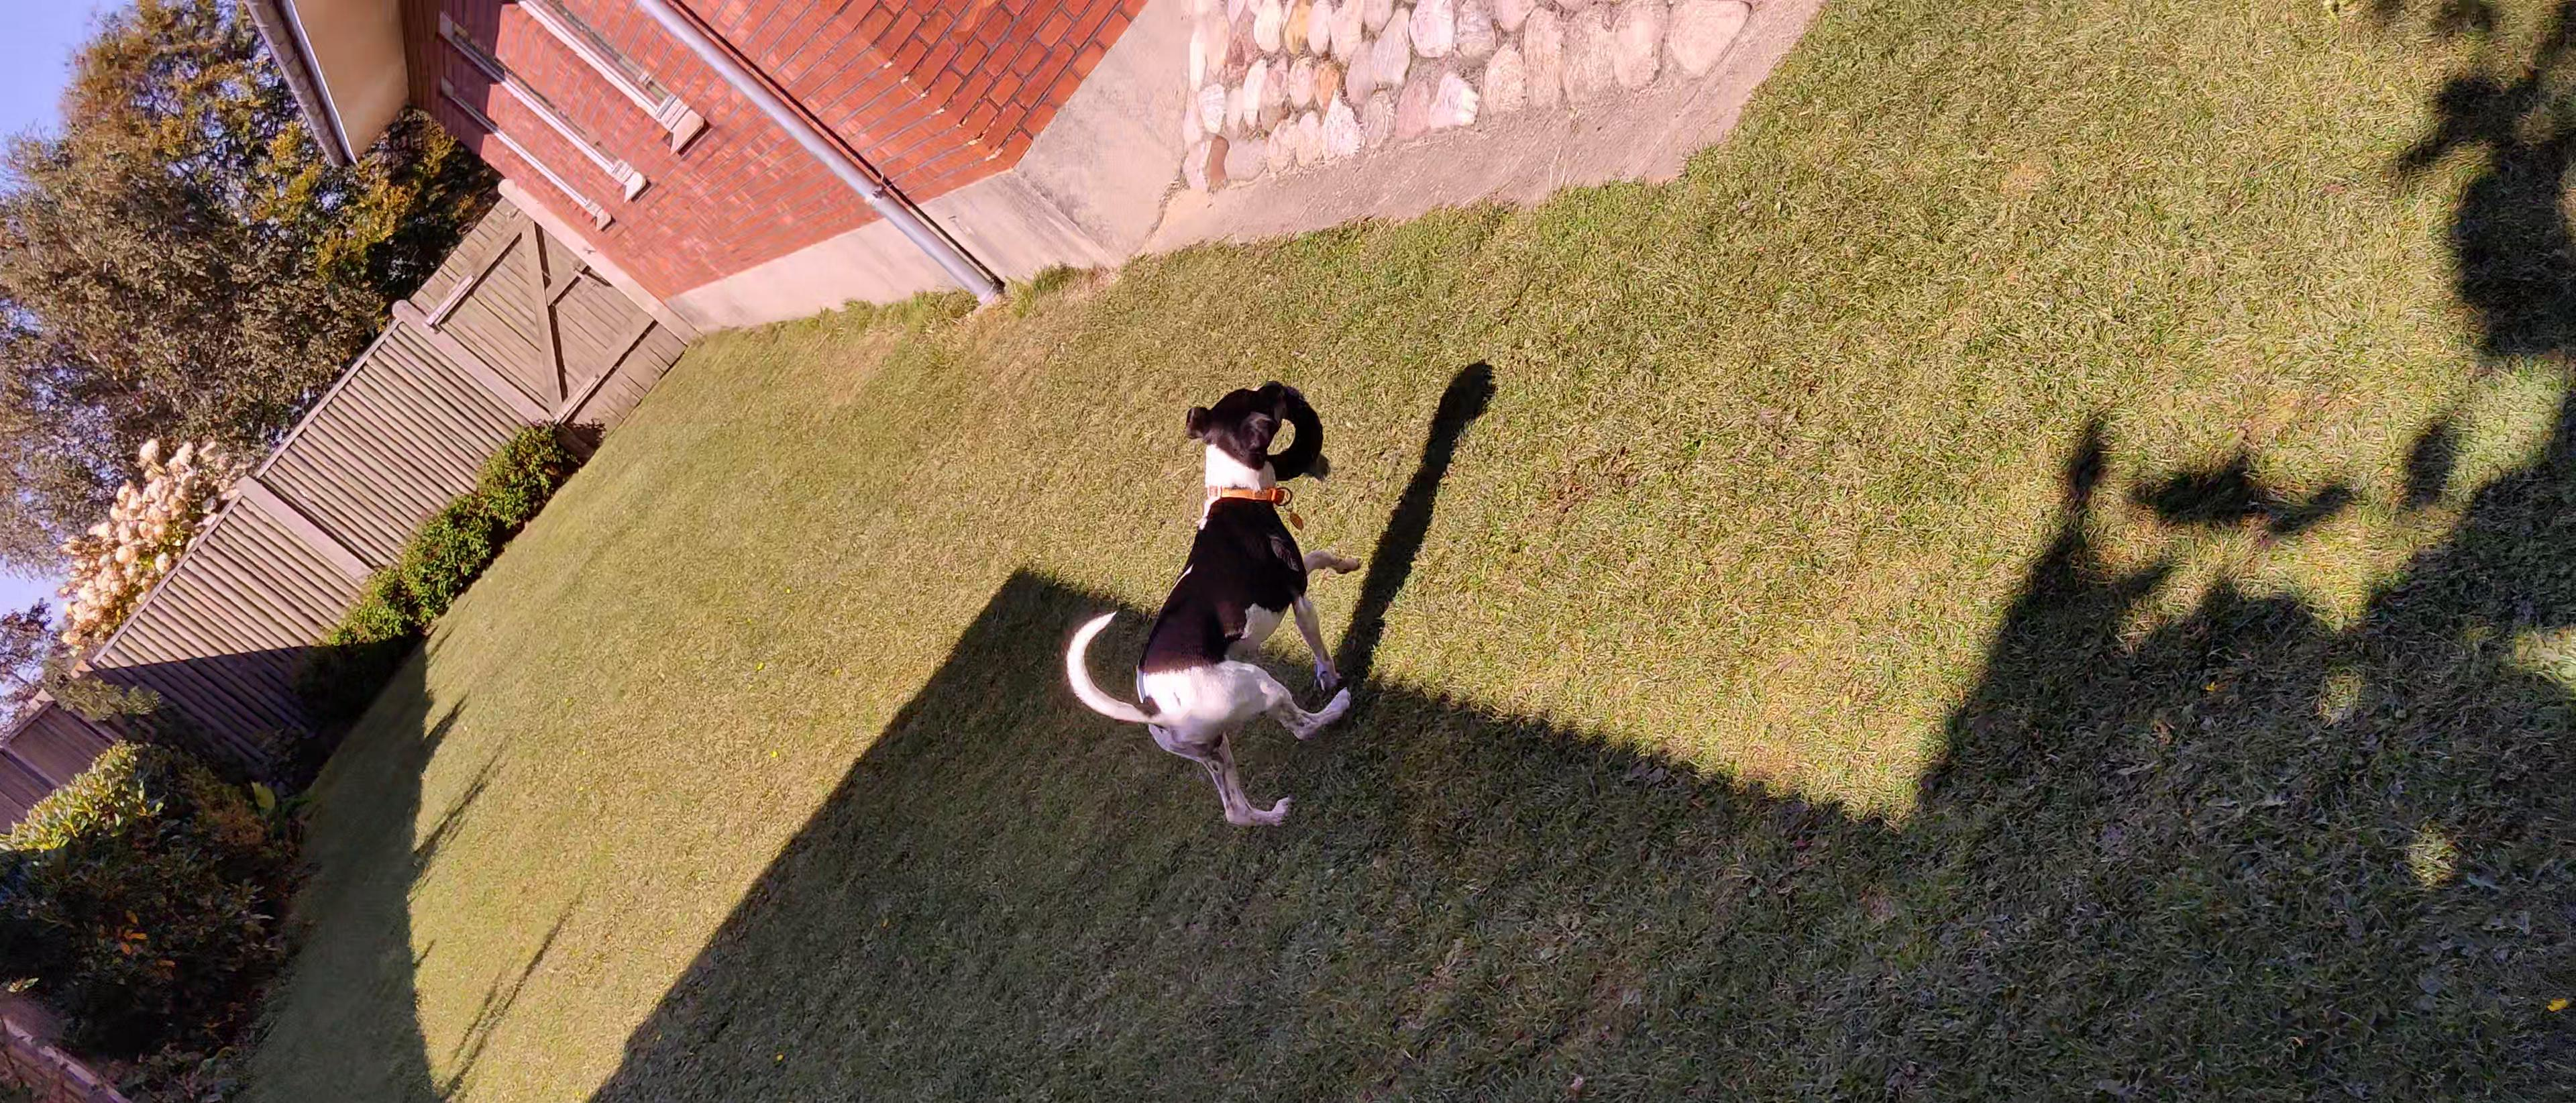Dog: (1065, 378, 1364, 828)
